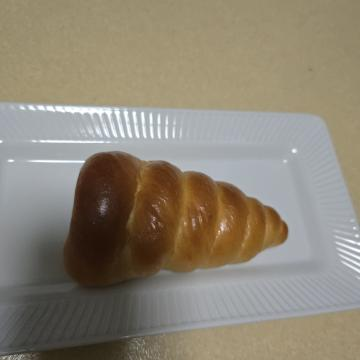cream horn: (137, 61, 307, 310)
